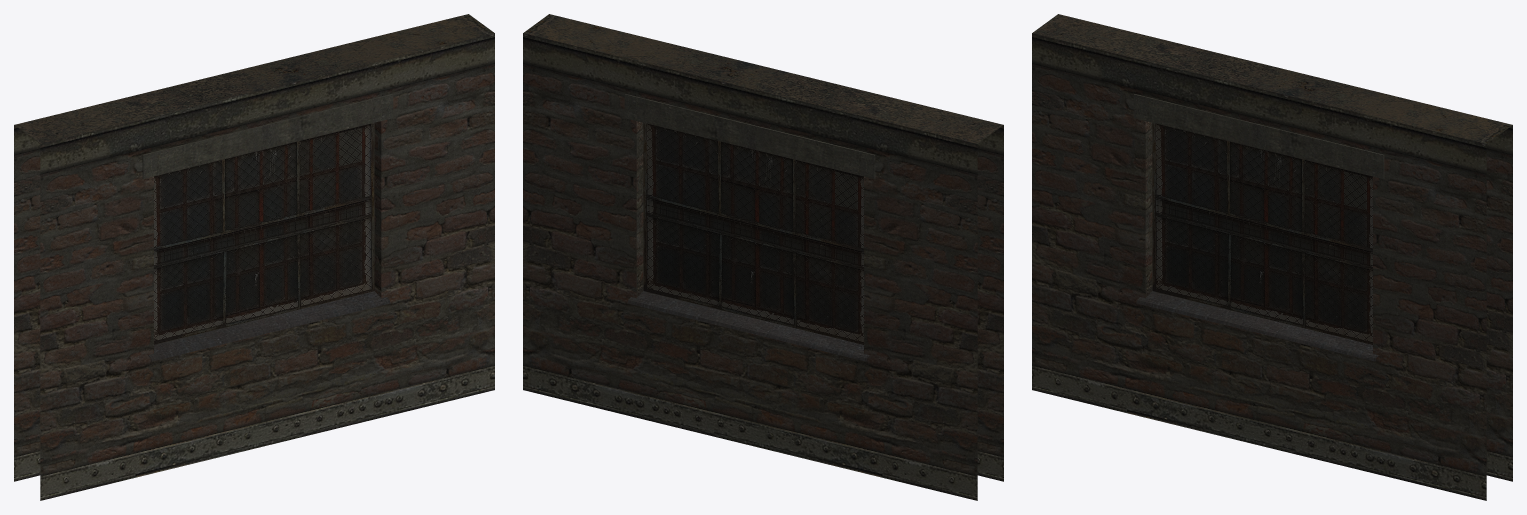
Rendered from window_hr_1.dae.
The picture shows the model from 3 angles, left to right: view 1: azimuth 30°, elevation 25°; view 2: azimuth 150°, elevation 25°; view 3: azimuth 330°, elevation 25°; orthographic projection.
Visible parts, largest first — view 1: window_hr_1; view 2: window_hr_1; view 3: window_hr_1.
Part boxes in pixels (left/top/right/bottom): window_hr_1: left=14, top=14, right=494, bottom=500; window_hr_1: left=523, top=14, right=1003, bottom=500; window_hr_1: left=1032, top=14, right=1512, bottom=500.
Size of the model in its own units: 4 by 0.51 by 3.
5 materials, 5 textured.
